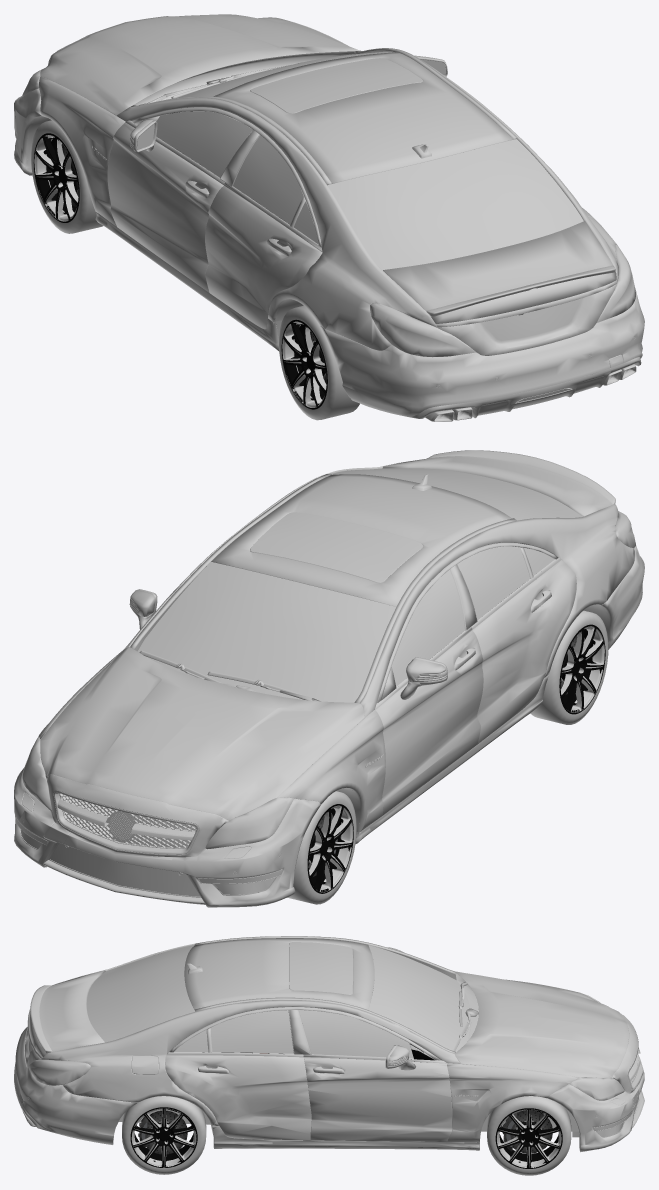
Rendered from avenue-car-mobile.glb.
3 renders of one model, top to bottom at view 1: azimuth 30°, elevation 25°; view 2: azimuth 150°, elevation 25°; view 3: azimuth 270°, elevation 25°, orthographic. The views are drawn at different scales.
Parts seen in each view (by area): view 1: Kar_skl_GLASS_0, default004_PAINT_0, Object043_PAINT_0, default016_PAINT_0, default002_PAINT_0, default005_PAINT_0, Object067_PAINT_0, Object183_PAINT_0, Object044_PAINT_0, default007_PAINT_0, Object128_METAL_PIANO_0, Kar_skl006_GLASS_0 (+17 smaller); view 2: Object043_PAINT_0, default006_GLASS_0, default004_PAINT_0, Object081_PAINT_0, default002_PAINT_0, Object067_PAINT_0, Object183_PAINT_0, Object128_METAL_PIANO_0, Object044_PAINT_0, Kar_skl_GLASS_0, default005_PAINT_0, DLP_skl_GLASS_0 (+21 smaller); view 3: Object043_PAINT_0, Object067_PAINT_0, default002_PAINT_0, Object183_PAINT_0, default004_PAINT_0, Kar_skl_GLASS_0, default006_GLASS_0, Object044_PAINT_0, default016_PAINT_0, Object081_PAINT_0, default005_PAINT_0, DLZ_skl_GLASS_0 (+21 smaller).
Part boxes in pixels (box(x1,y1,x2,y2)): Kar_skl_GLASS_0: box(327, 139, 583, 270); default004_PAINT_0: box(213, 52, 513, 183); Object043_PAINT_0: box(40, 14, 359, 115); default016_PAINT_0: box(320, 288, 644, 416); default002_PAINT_0: box(117, 48, 618, 350); default005_PAINT_0: box(383, 221, 616, 323); Object067_PAINT_0: box(107, 122, 223, 292); Object183_PAINT_0: box(205, 185, 322, 329); Object044_PAINT_0: box(39, 18, 347, 226); default007_PAINT_0: box(438, 284, 616, 355); Object128_METAL_PIANO_0: box(250, 58, 423, 113); Kar_skl006_GLASS_0: box(370, 244, 635, 357); Object043_PAINT_0: box(40, 647, 364, 820); default006_GLASS_0: box(137, 562, 396, 702); default004_PAINT_0: box(211, 474, 511, 606); Object081_PAINT_0: box(14, 734, 320, 907); default002_PAINT_0: box(120, 461, 634, 717); Object067_PAINT_0: box(122, 630, 483, 815); Object183_PAINT_0: box(472, 560, 576, 744); Object128_METAL_PIANO_0: box(250, 512, 423, 582); Object044_PAINT_0: box(39, 651, 385, 832); Kar_skl_GLASS_0: box(331, 468, 582, 520); default005_PAINT_0: box(383, 456, 615, 516); DLP_skl_GLASS_0: box(391, 570, 464, 686); Object043_PAINT_0: box(455, 971, 629, 1078); Object067_PAINT_0: box(304, 1057, 452, 1141); default002_PAINT_0: box(41, 936, 460, 1125); Object183_PAINT_0: box(165, 1055, 311, 1140); default004_PAINT_0: box(184, 938, 374, 1009); Kar_skl_GLASS_0: box(87, 945, 195, 1042); default006_GLASS_0: box(368, 945, 470, 1052); Object044_PAINT_0: box(447, 982, 580, 1142); default016_PAINT_0: box(14, 1027, 137, 1144); Object081_PAINT_0: box(548, 1012, 644, 1152); default005_PAINT_0: box(28, 970, 105, 1057); DLZ_skl_GLASS_0: box(174, 1010, 293, 1053).
Size of the model in its own units: 2.09 by 1.44 by 4.98.
Materials: 5 (2 with a texture image).
